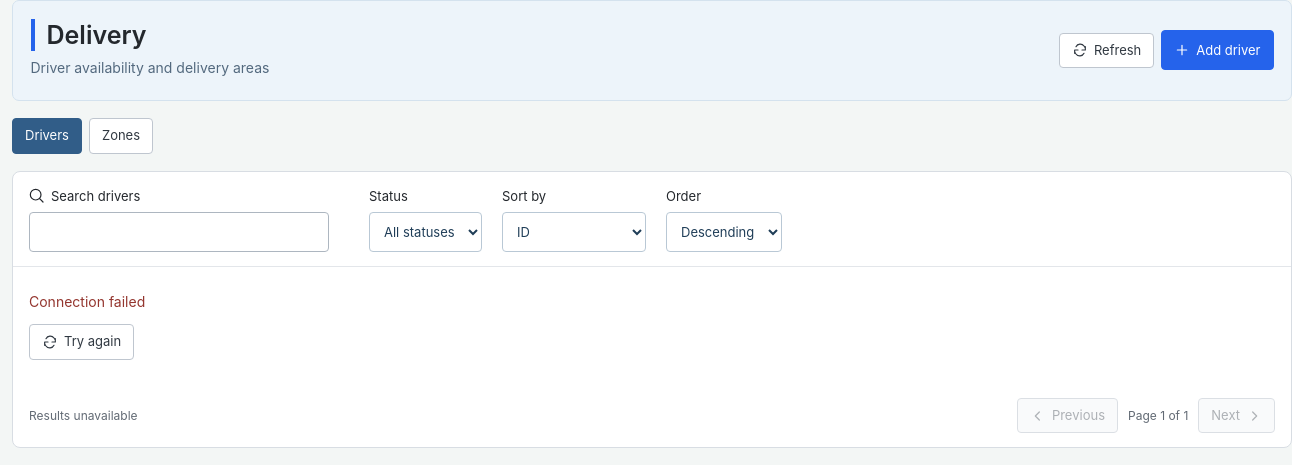
Test: shows a retry after a failed list and then the empty state
This screenshot has width=1292, height=465.
Expected: the text "Connection failed" is shown, [29, 294, 145, 310]
What coordinates should you click on to do the following:
click the button "Try again"
I would click on:
 (82, 342)
Its box is [29, 324, 134, 360].
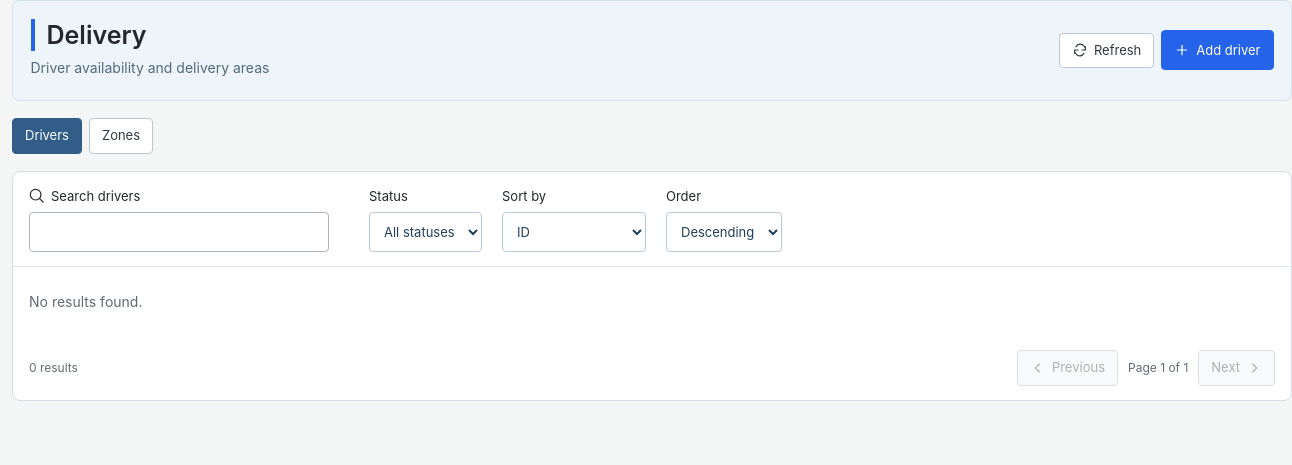
Expected: the text "No results found." is shown, [29, 294, 142, 310]
